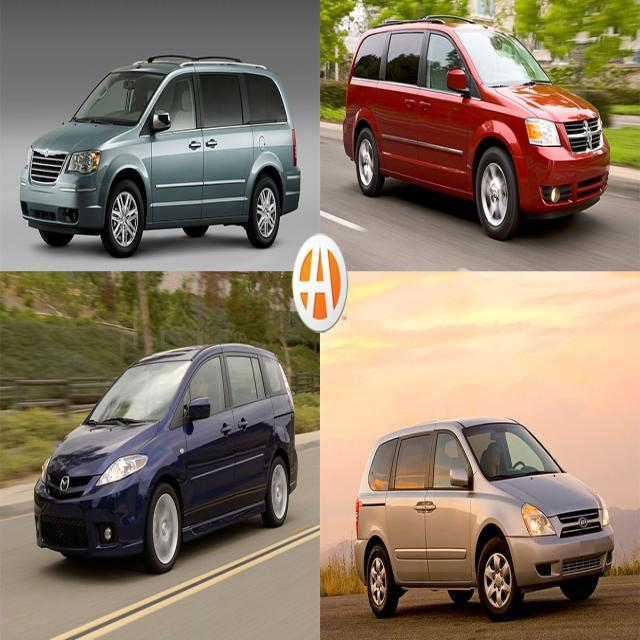minivan: (33, 341, 298, 574), (342, 13, 611, 240), (19, 52, 301, 257), (352, 414, 614, 620)
